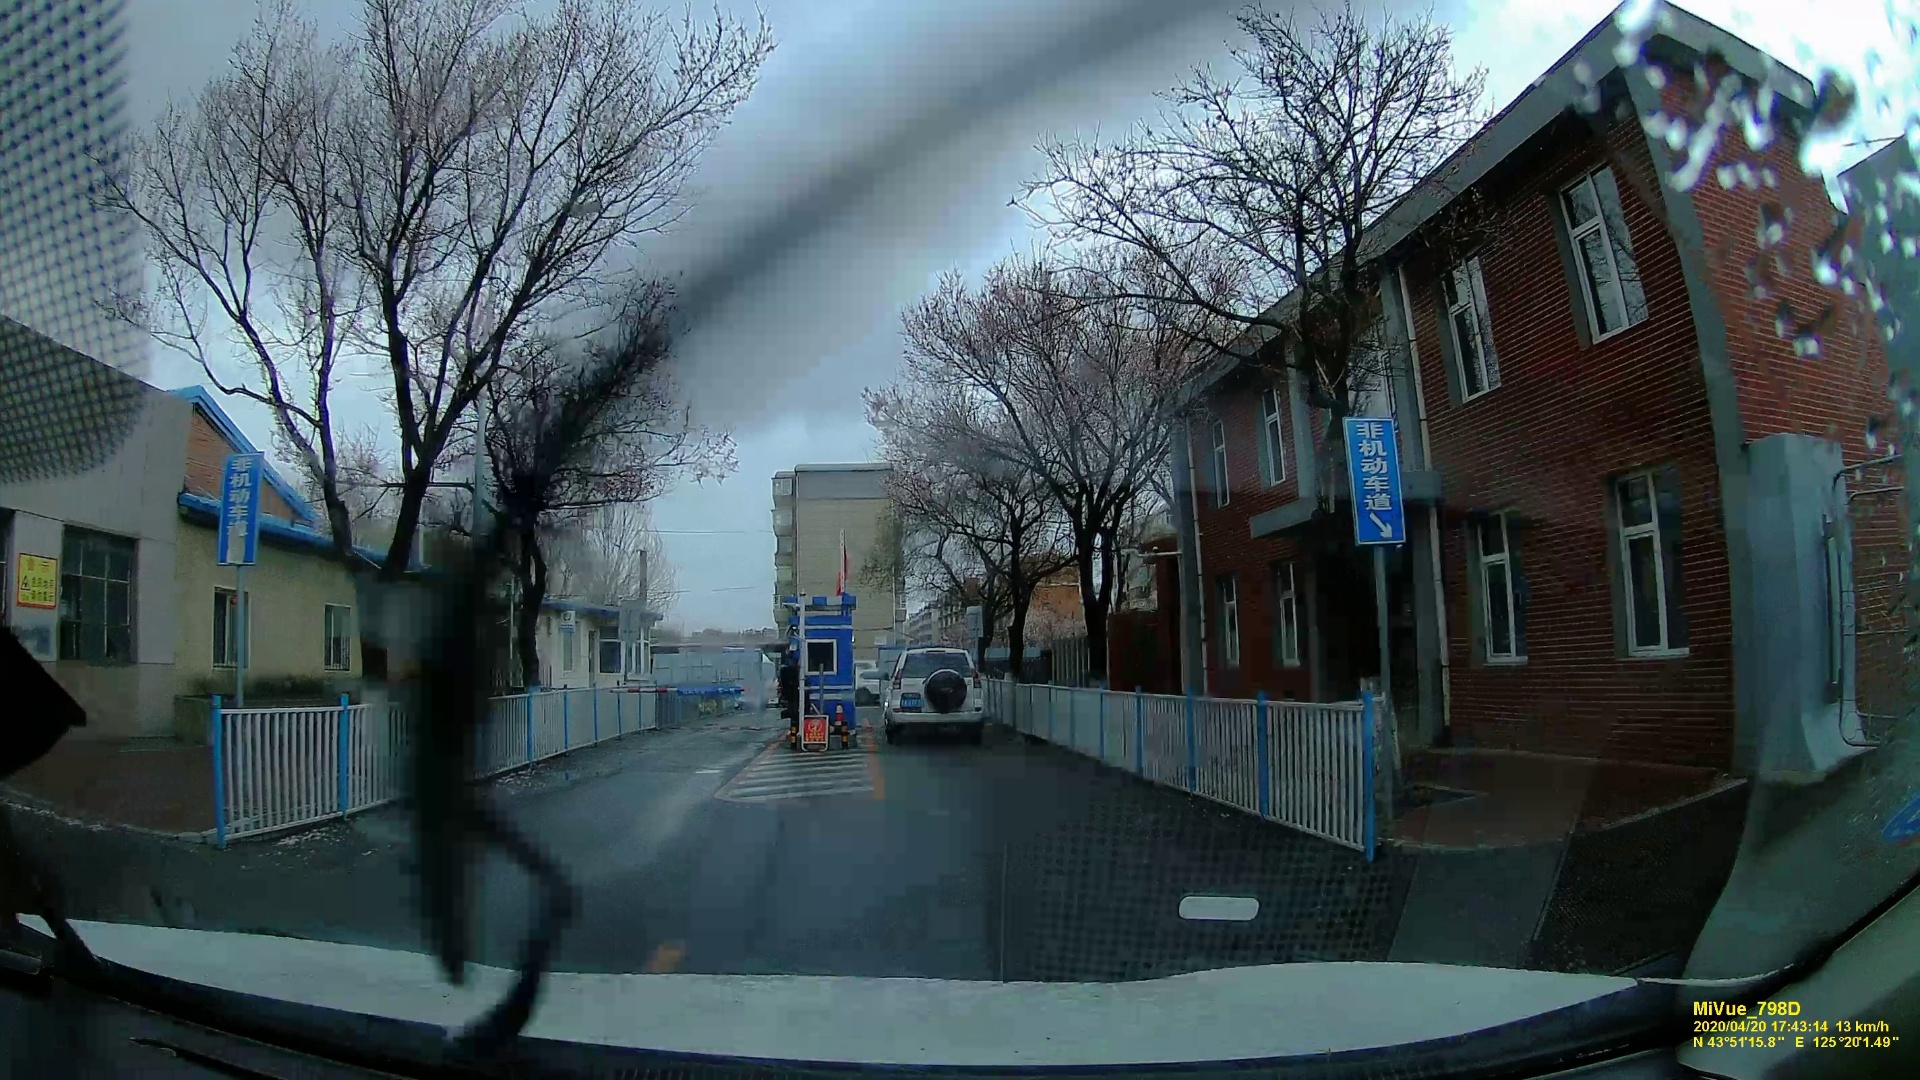traffic_sign: (1346, 417, 1408, 547), (224, 450, 262, 567), (800, 715, 829, 746)
vehicle: (876, 645, 986, 742)
